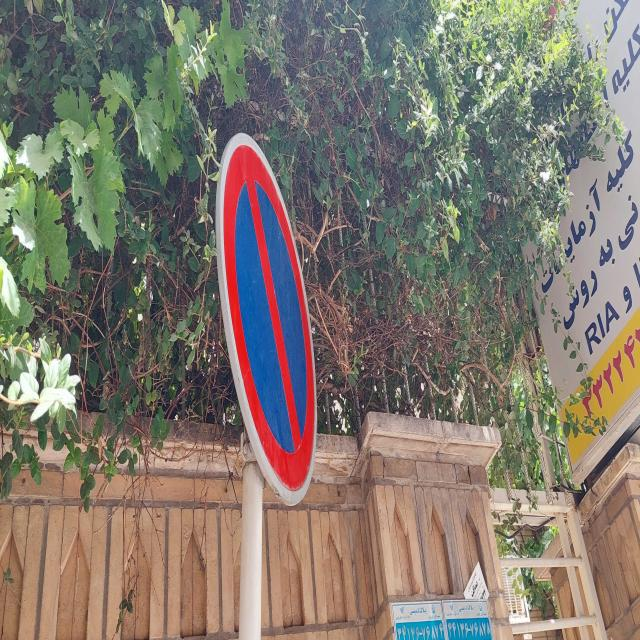forb_stopping: (216, 129, 319, 508)
